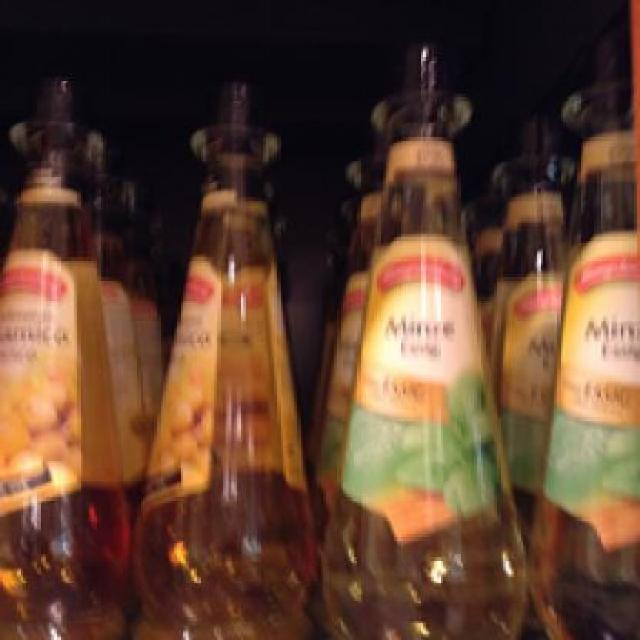Vinegar: (320, 48, 549, 634), (138, 80, 312, 637), (0, 78, 132, 635), (539, 85, 635, 638)
